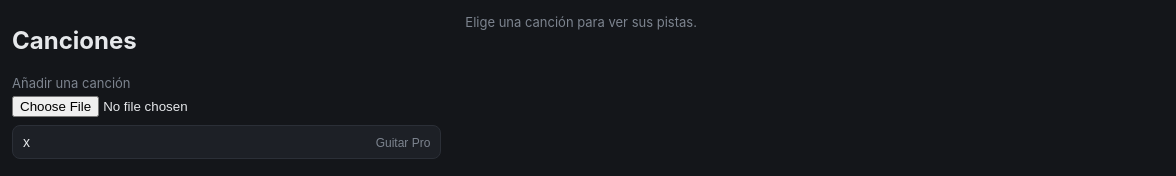
Test: Canciones › al elegir una cancion muestra sus pistas
The width and height of the screenshot is (1176, 176).
Click the text "x": (26, 142) x1=23 y1=134 x2=30 y2=150
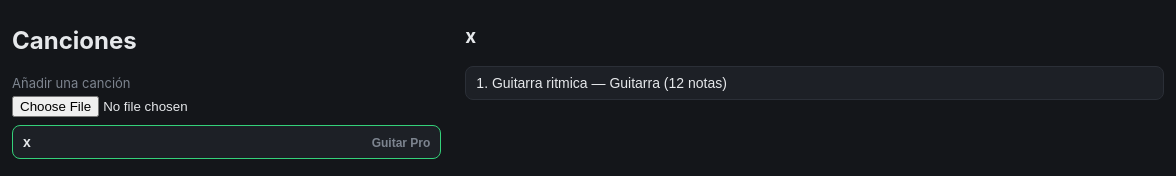
Expected: the button "1. Guitarra ritmica — Guitarra (12 notas)" is shown, x1=465 y1=66 x2=1164 y2=100
